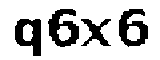6: (118, 4, 151, 49), (48, 6, 78, 50)
q: (11, 17, 41, 60)
x: (80, 17, 112, 51)
